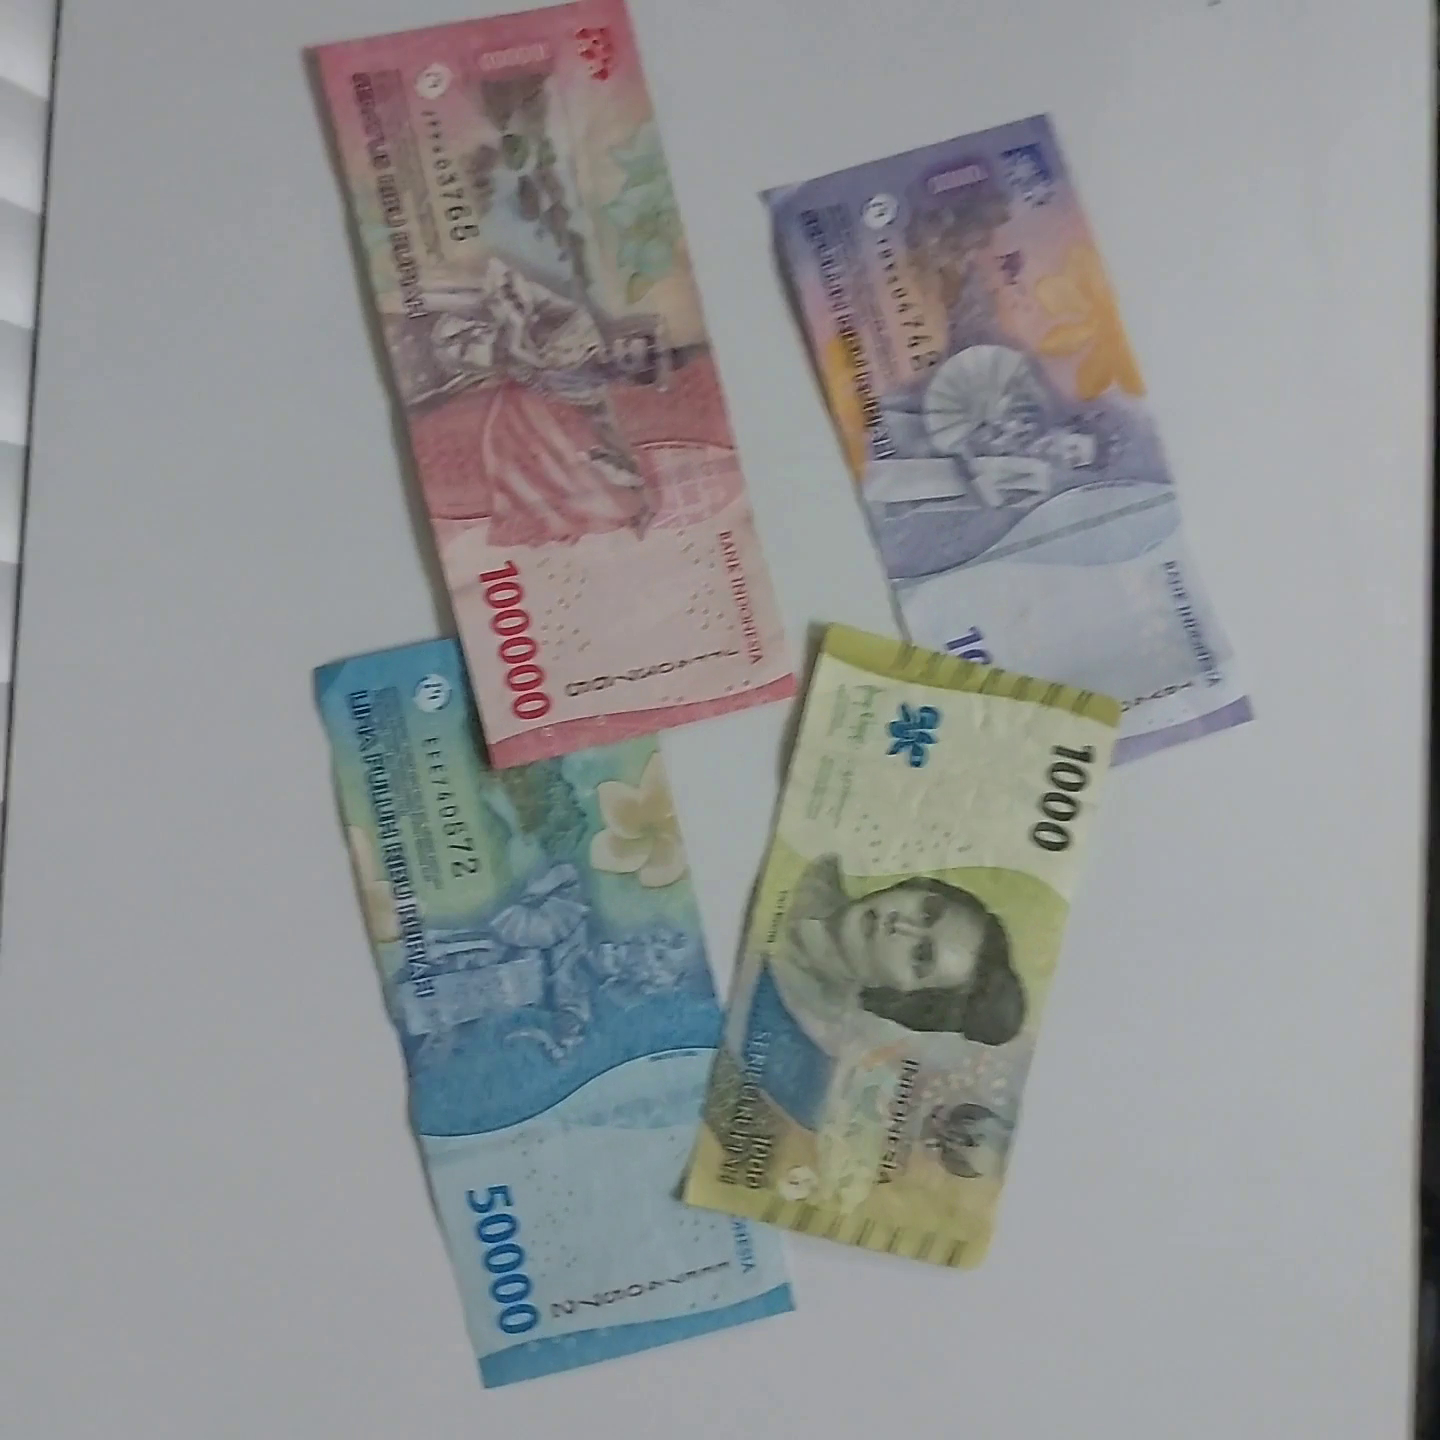100k: (169, 0, 798, 778)
10k: (712, 219, 1097, 931)
1k: (771, 593, 1134, 1229)
50k: (289, 599, 887, 1403)
